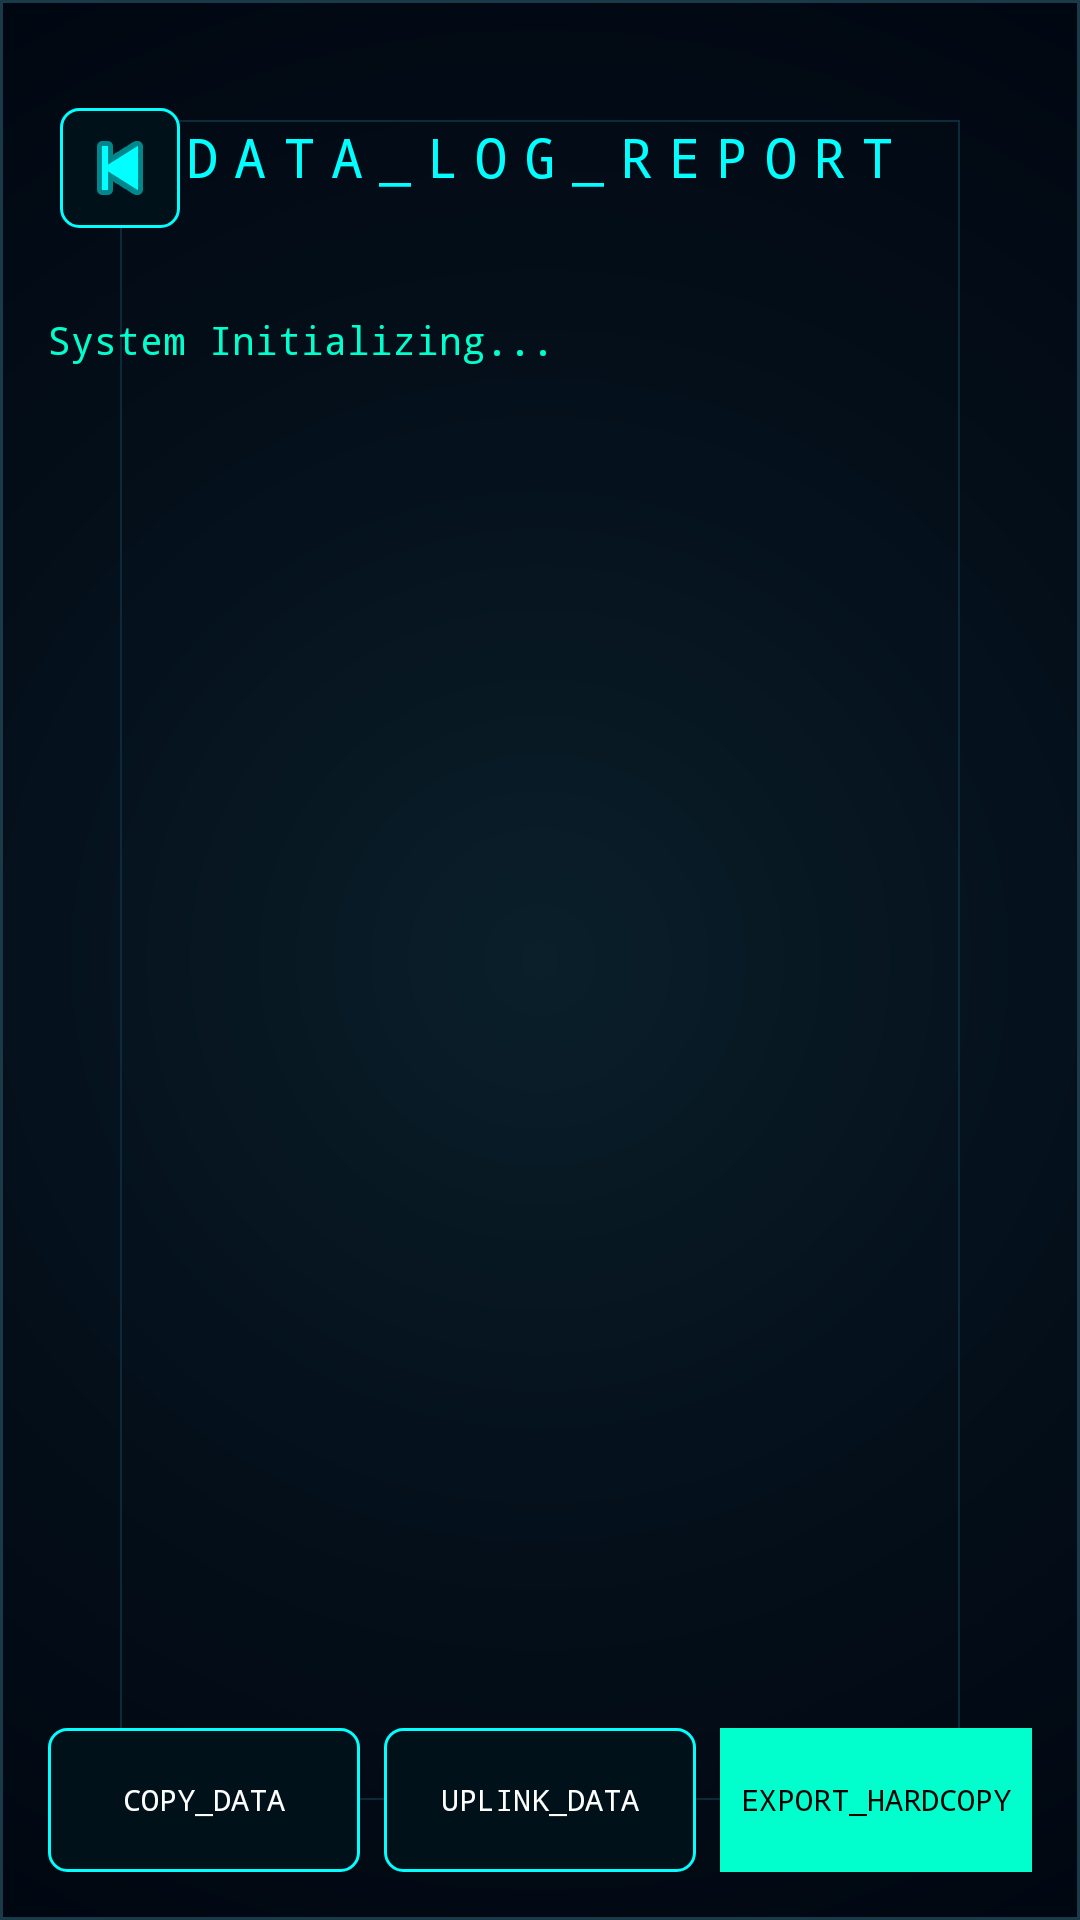

Screen size 1080px x 1920px. Icon name, then its center in pixels as (x,y):
previous: (120,168)
